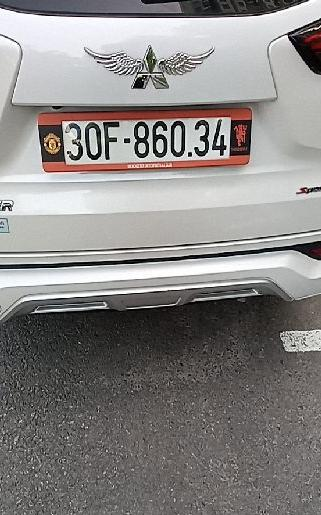Plate-iWeP: (60, 113, 235, 163)
